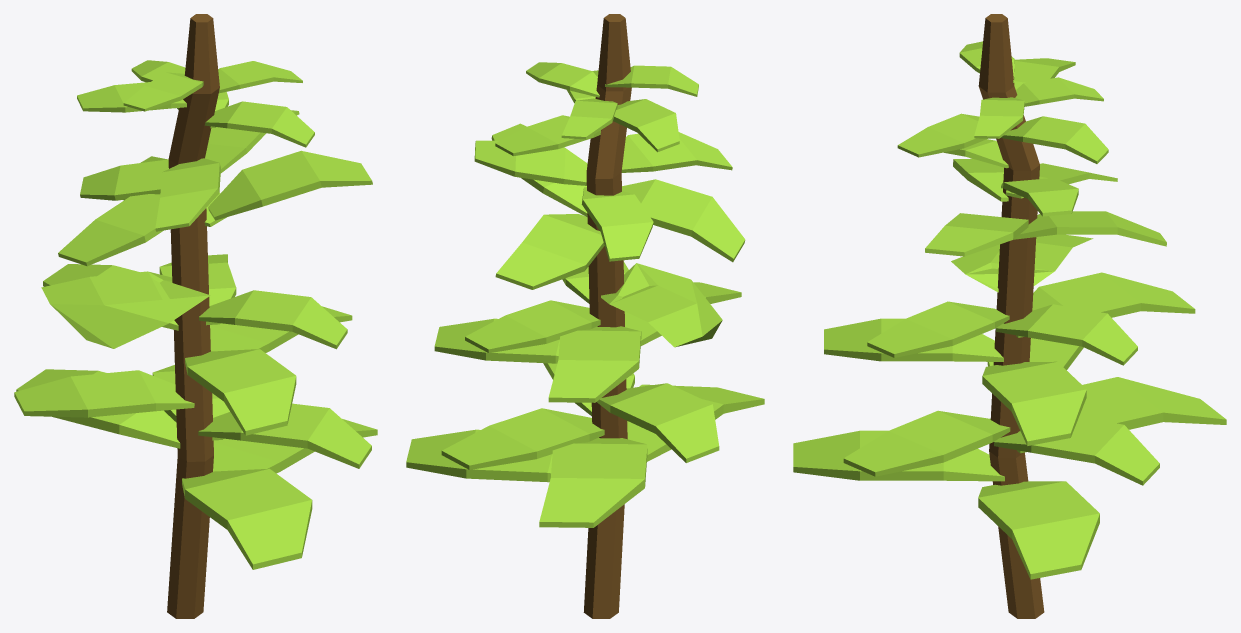
The model's file is Plant.fbx.
3 renders of one model, left to right at view 1: azimuth 30°, elevation 25°; view 2: azimuth 150°, elevation 25°; view 3: azimuth 270°, elevation 25°, orthographic. The views are drawn at different scales.
Visible parts, largest first — view 1: Cube.021, Stem; view 2: Cube.021, Stem; view 3: Cube.021, Stem.
Boxes of the visible parts, x1=… form: Cube.021: x1=14, y1=60, x2=377, y2=569; Stem: x1=167, y1=14, x2=219, y2=618; Cube.021: x1=406, y1=62, x2=764, y2=527; Stem: x1=583, y1=14, x2=631, y2=618; Cube.021: x1=793, y1=41, x2=1226, y2=579; Stem: x1=978, y1=14, x2=1044, y2=618.
Size of the model in its own units: 75.62 by 130 by 85.91.
